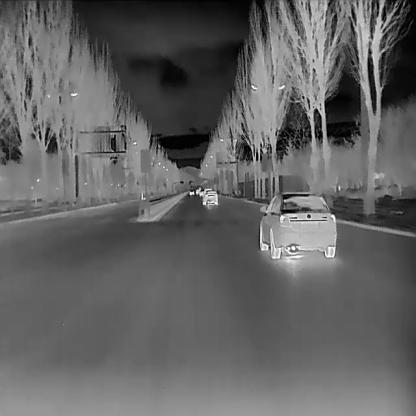car: (258, 189, 336, 259), (202, 188, 217, 204), (202, 186, 212, 198), (198, 187, 204, 197), (188, 189, 194, 195), (195, 188, 199, 193)
